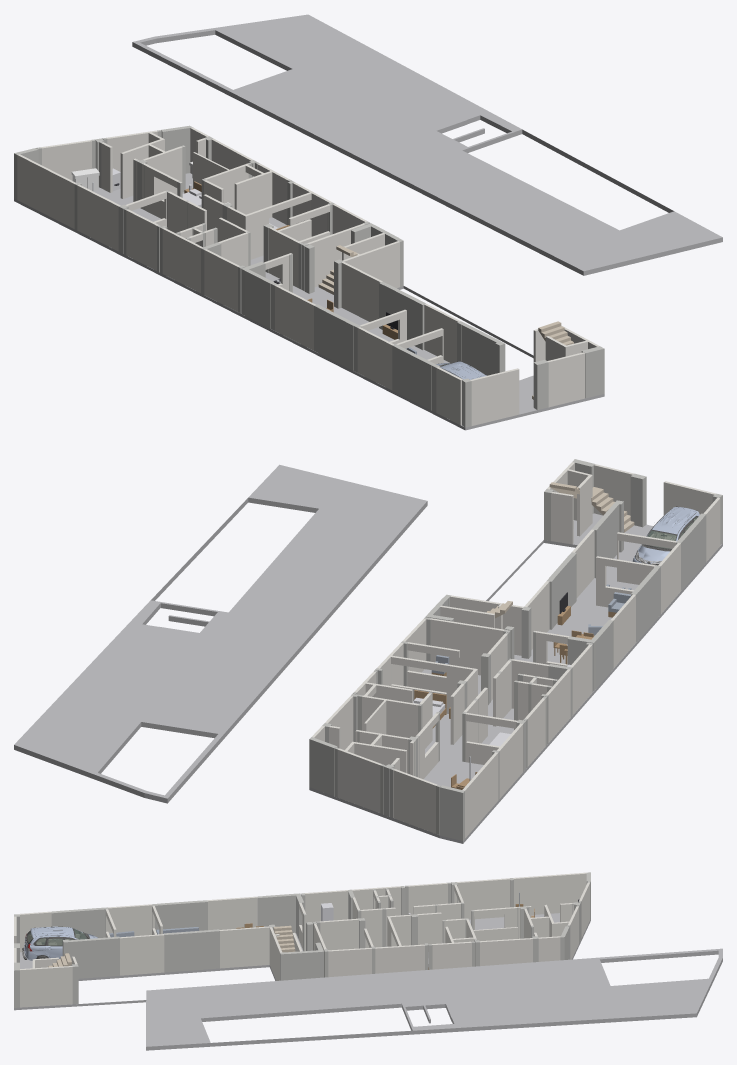
File: casa.glb
3 views of the same model, one above another, from view 1: azimuth 30°, elevation 25°; view 2: azimuth 150°, elevation 25°; view 3: azimuth 270°, elevation 25° (orthographic). The views are drawn at different scales.
Parts seen in each view (by area): view 1: Muros_N1, Losa_Entrepiso, Columnas_N1, Placas_N1, Losa_Piso, Escaleras; view 2: Losa_Entrepiso, Muros_N1, Columnas_N1, Losa_Piso, Placas_N1, Material2, Escaleras; view 3: Muros_N1, Losa_Entrepiso, Placas_N1, Columnas_N1, Losa_Piso, Material2, Escaleras.
Boxes of the visible parts, bbox=[...] form: Muros_N1: bbox=[17, 127, 599, 425]; Losa_Entrepiso: bbox=[132, 14, 722, 275]; Columnas_N1: bbox=[14, 125, 604, 427]; Placas_N1: bbox=[245, 225, 500, 410]; Losa_Piso: bbox=[14, 173, 604, 430]; Escaleras: bbox=[318, 245, 573, 399]; Losa_Entrepiso: bbox=[14, 464, 427, 803]; Muros_N1: bbox=[312, 462, 720, 838]; Columnas_N1: bbox=[309, 459, 722, 840]; Losa_Piso: bbox=[309, 513, 722, 843]; Placas_N1: bbox=[428, 503, 703, 688]; Material2: bbox=[632, 506, 699, 565]; Escaleras: bbox=[486, 482, 634, 618]; Muros_N1: bbox=[14, 872, 589, 1007]; Losa_Entrepiso: bbox=[146, 948, 722, 1050]; Placas_N1: bbox=[57, 893, 319, 980]; Columnas_N1: bbox=[14, 872, 590, 1007]; Losa_Piso: bbox=[14, 913, 590, 1010]; Material2: bbox=[22, 926, 98, 960]; Escaleras: bbox=[48, 925, 295, 967].
Bounding box in the file's own units: 25.02 × 2.85 × 42.03.
